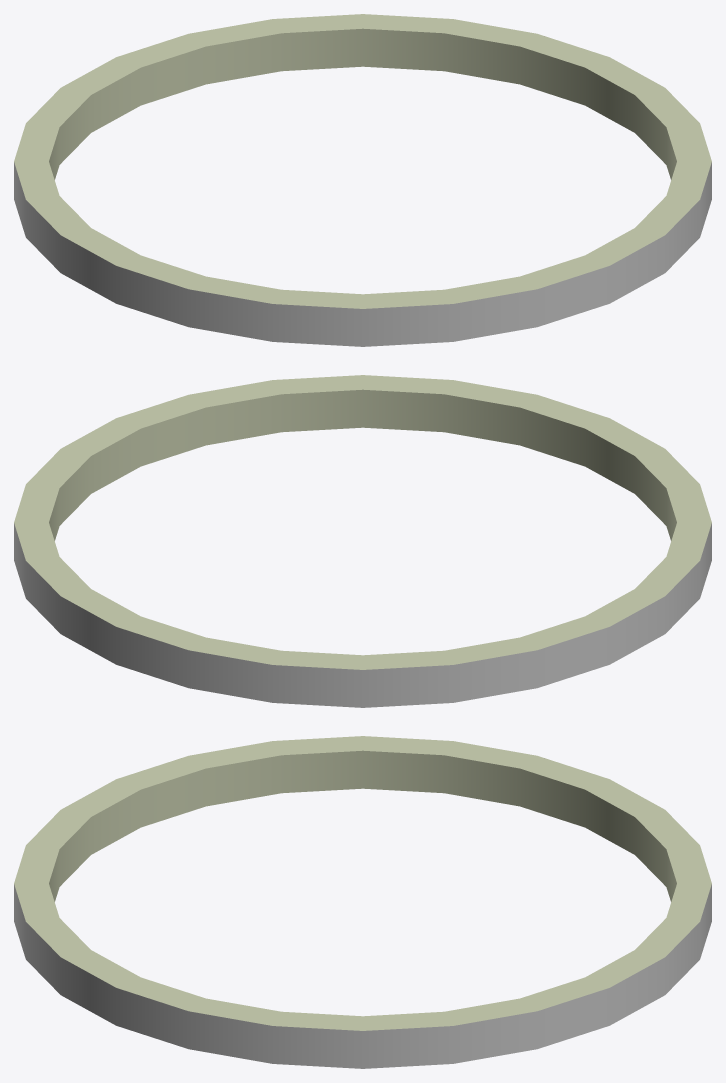
Rendered from aquila_control_s2_1.obj.
The picture shows the model from 3 angles, top to bottom: view 1: azimuth 30°, elevation 25°; view 2: azimuth 150°, elevation 25°; view 3: azimuth 270°, elevation 25°; orthographic projection.
Parts seen in each view (by area): view 1: aquila_control_s2_1_default, aquila_control_s2_1_aquila_control_s2_1_auv; view 2: aquila_control_s2_1_default, aquila_control_s2_1_aquila_control_s2_1_auv; view 3: aquila_control_s2_1_default, aquila_control_s2_1_aquila_control_s2_1_auv.
Boxes of the visible parts, left/top/right/bottom form: aquila_control_s2_1_default: left=14, top=14, right=711, bottom=308; aquila_control_s2_1_aquila_control_s2_1_auv: left=14, top=162, right=711, bottom=346; aquila_control_s2_1_default: left=14, top=375, right=711, bottom=669; aquila_control_s2_1_aquila_control_s2_1_auv: left=14, top=523, right=711, bottom=707; aquila_control_s2_1_default: left=14, top=736, right=711, bottom=1030; aquila_control_s2_1_aquila_control_s2_1_auv: left=14, top=884, right=711, bottom=1068.
Bounding box in the file's own units: 2.5 × 0.15 × 2.5.
